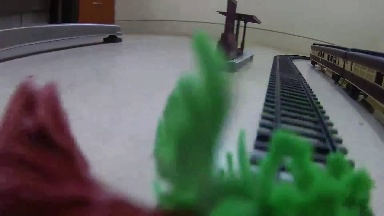tree: (1, 70, 376, 214)
